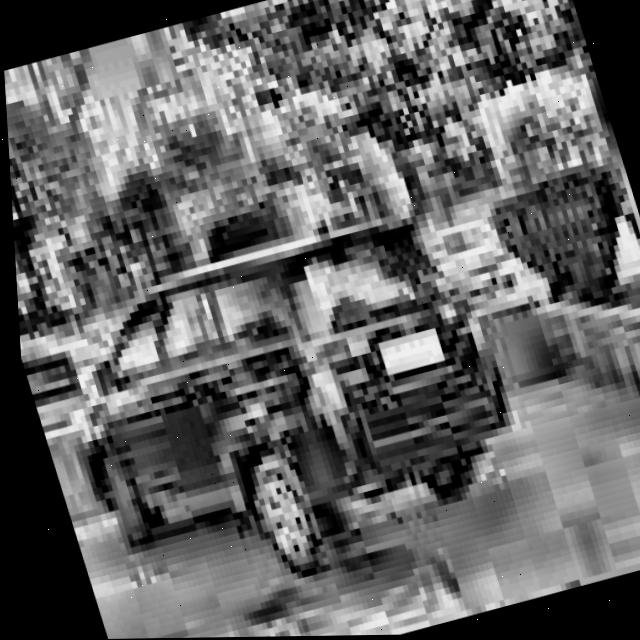light_vehicle: (28, 200, 543, 620)
